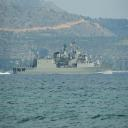Fragata: (13, 33, 117, 77)
